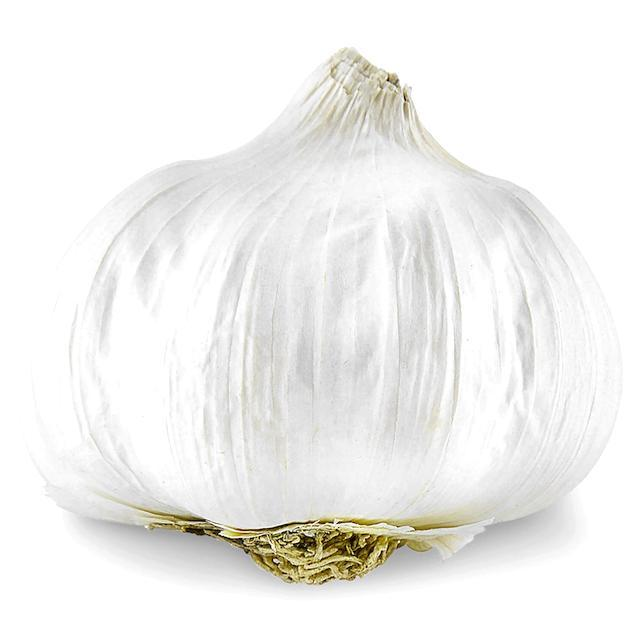garlic: (30, 49, 620, 582)
